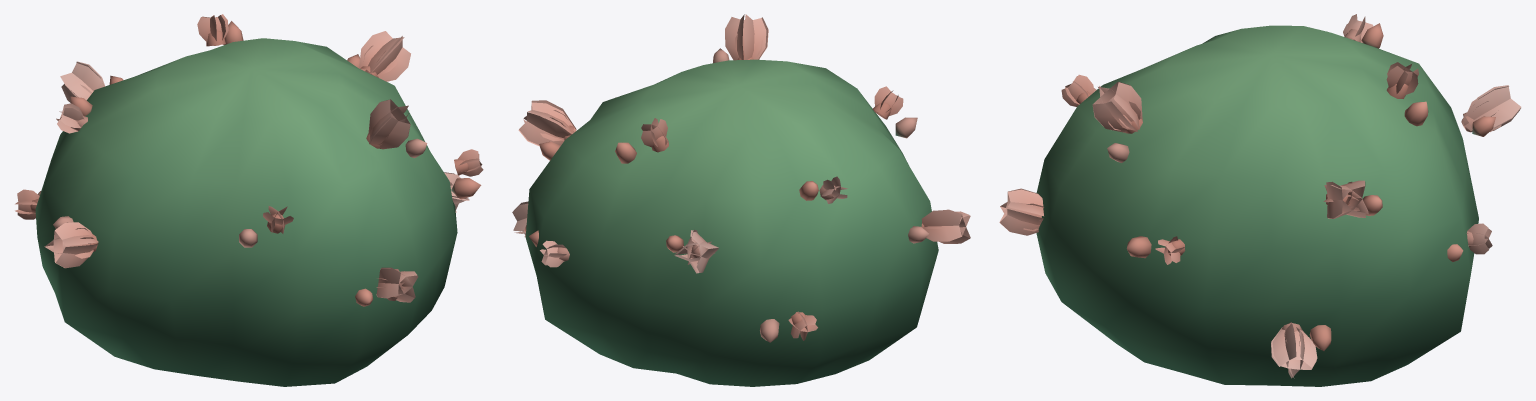
File: rose_peach.glb
3 renders of one model, left to right at view 1: azimuth 30°, elevation 25°; view 2: azimuth 150°, elevation 25°; view 3: azimuth 270°, elevation 25°, orthographic. The views are drawn at different scales.
Parts seen in each view (by area): view 1: rose_peach; view 2: rose_peach; view 3: rose_peach.
Part boxes in pixels (bbox=[...]): rose_peach: bbox=[15, 14, 483, 386]; rose_peach: bbox=[512, 14, 970, 386]; rose_peach: bbox=[999, 14, 1521, 386].
Size of what is drawn, in the model's own units: 1.97 by 1.1 by 1.89.
